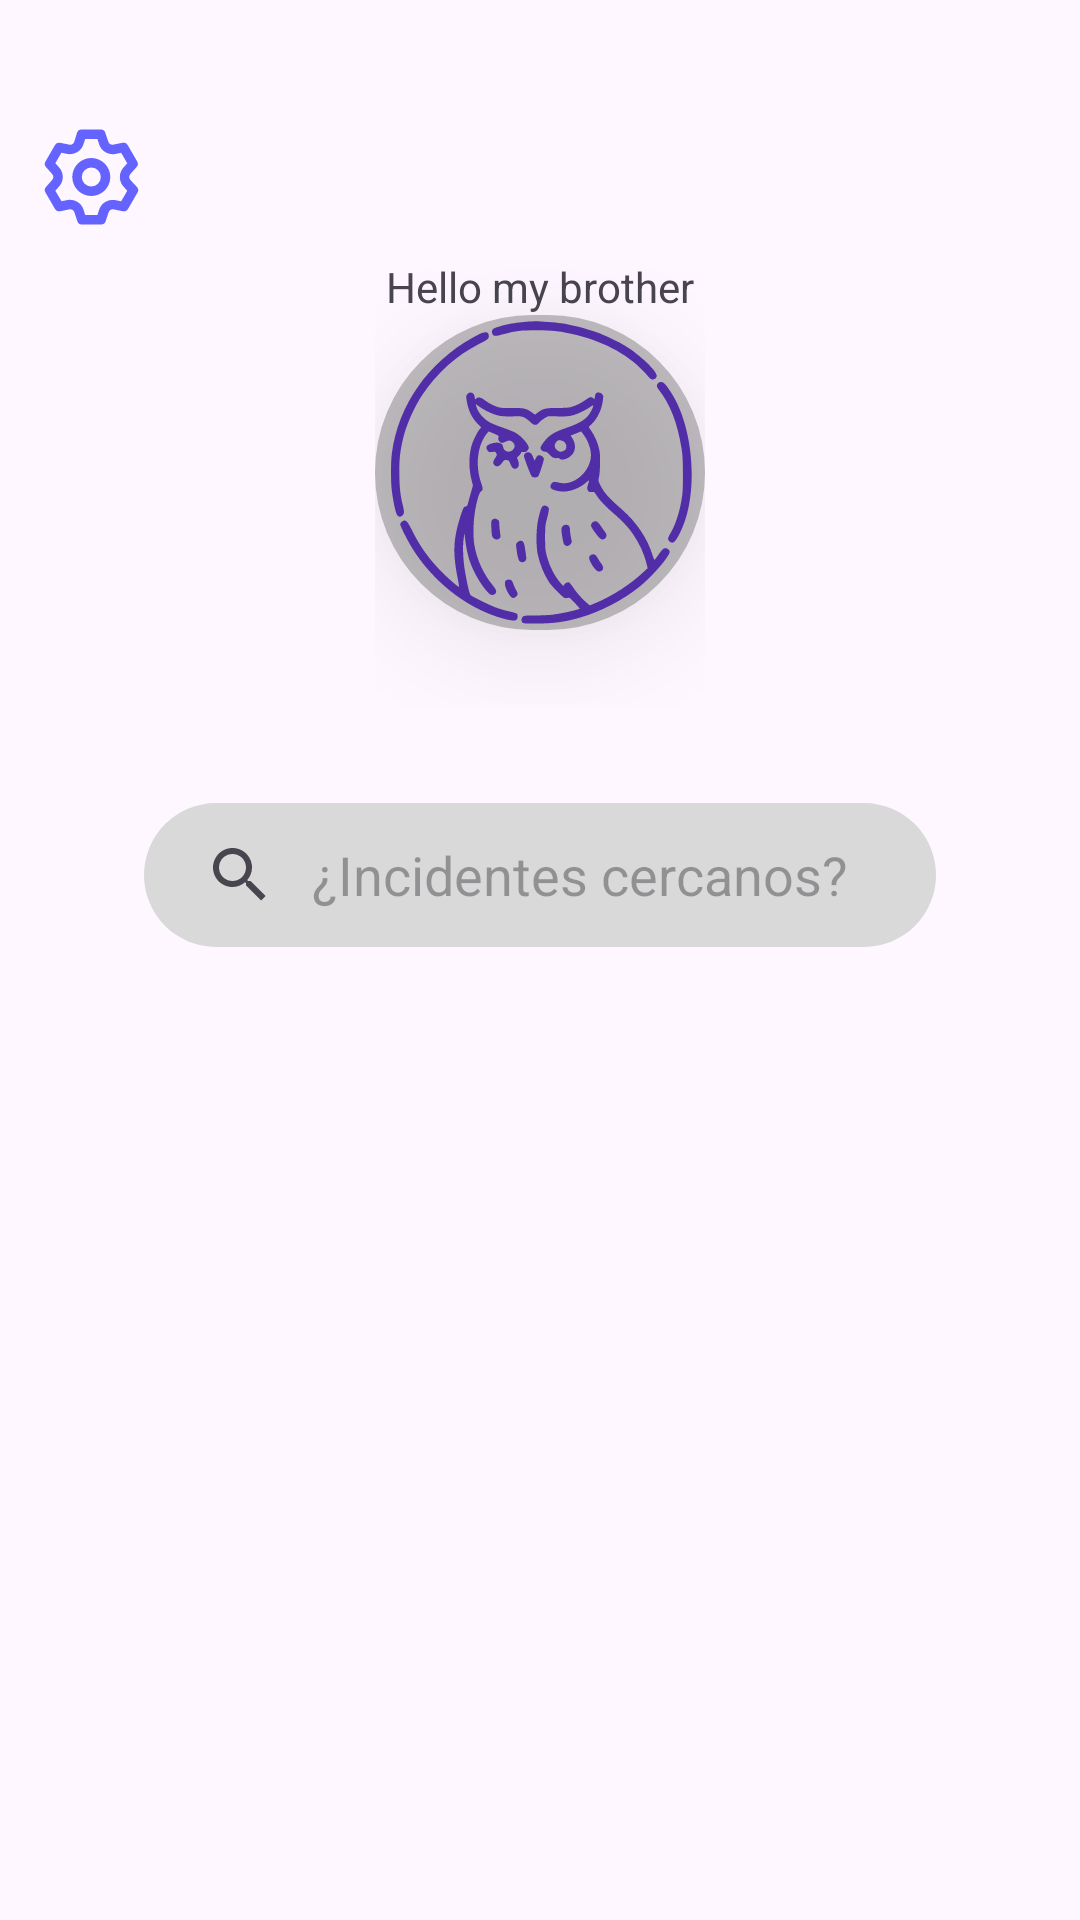

Icon click points for this 1080 × 1920 phone screenshot, format (x,y):
setting: (91,177)
